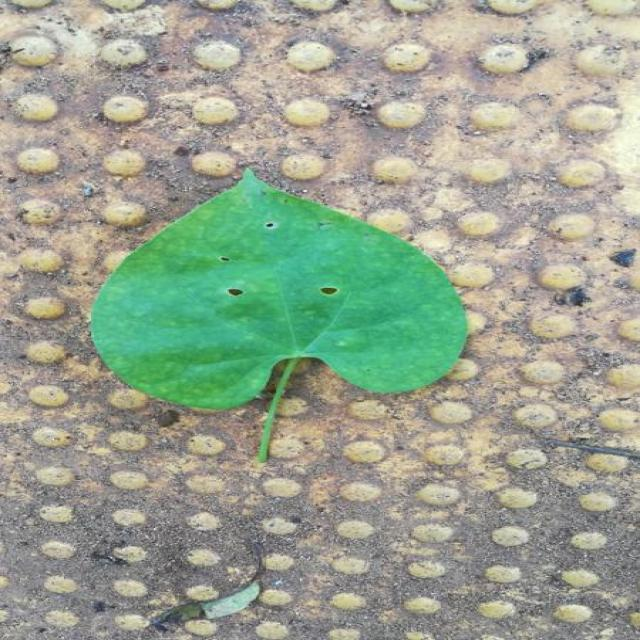Amruthaballi: (92, 170, 467, 409)
defectedAmruthaballi: (150, 188, 413, 337)
